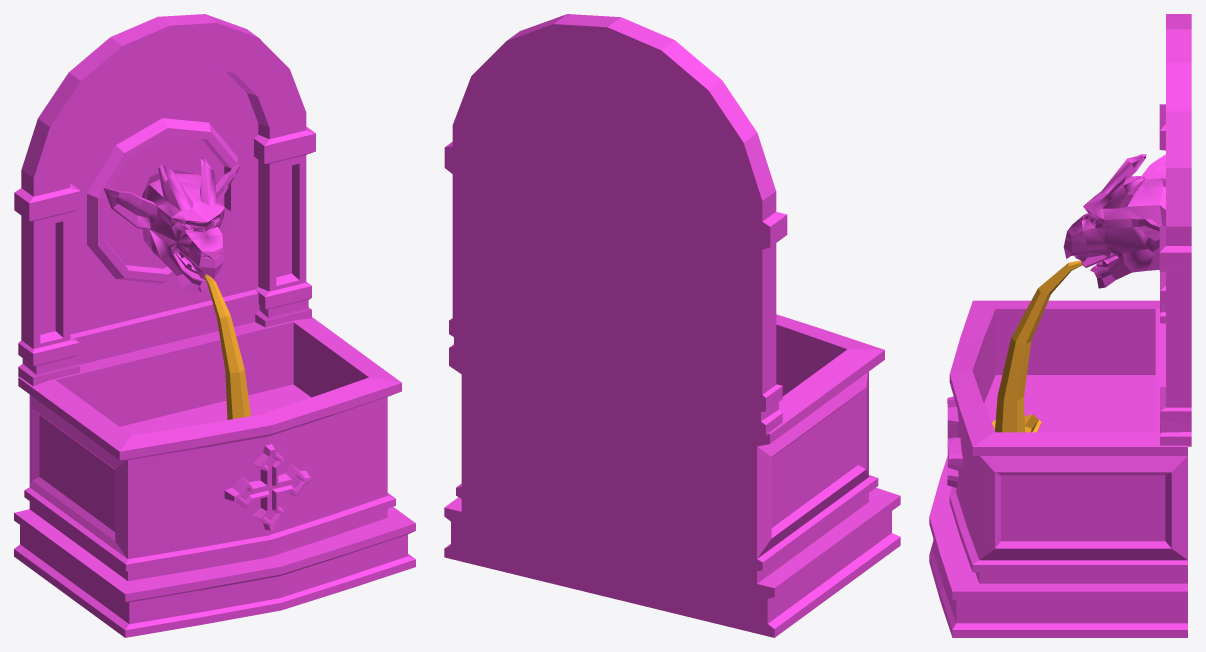
The model's file is SM_Fountain_Small_A_Water_Fantasy.fbx.
3 renders of one model, left to right at view 1: azimuth 30°, elevation 25°; view 2: azimuth 150°, elevation 25°; view 3: azimuth 270°, elevation 25°, orthographic. The views are drawn at different scales.
Visible parts, largest first — view 1: SM_Fountain_Small_A_Water_Fantasy; view 2: SM_Fountain_Small_A_Water_Fantasy; view 3: SM_Fountain_Small_A_Water_Fantasy.
Part boxes in pixels (<box>): SM_Fountain_Small_A_Water_Fantasy: <box>14,14,415,637</box>; SM_Fountain_Small_A_Water_Fantasy: <box>444,14,900,637</box>; SM_Fountain_Small_A_Water_Fantasy: <box>929,14,1191,637</box>.
Size of the model in its own units: 1.36 by 2.24 by 0.9996.
